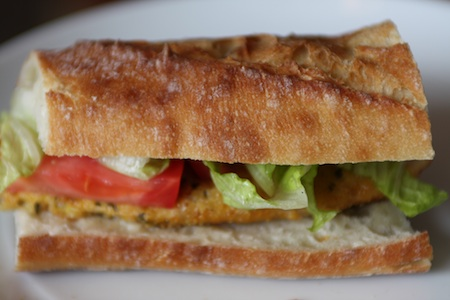sandwich: (1, 21, 436, 280)
